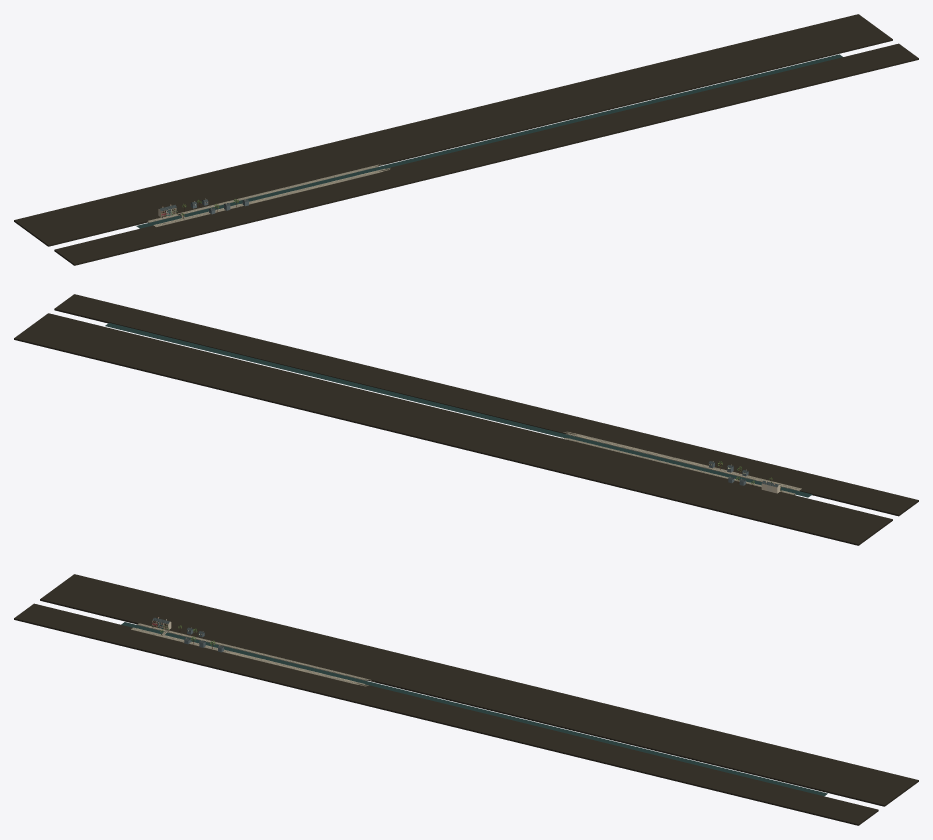
File: canal-v4.glb
3 renders of one model, top to bottom at view 1: azimuth 30°, elevation 25°; view 2: azimuth 150°, elevation 25°; view 3: azimuth 330°, elevation 25°, orthographic.
Parts seen in each view (by area): view 1: Material group / soil, Material group / Canal water, Material group / paving; view 2: Material group / soil, Material group / Canal water, Material group / paving; view 3: Material group / soil, Material group / Canal water, Material group / paving.
Boxes of the visible parts, x1,y1,x2,y2 form: Material group / soil: (14,14,918,265); Material group / Canal water: (136,54,842,228); Material group / paving: (148,164,390,226); Material group / soil: (14,294,918,545); Material group / Canal water: (105,323,812,497); Material group / paving: (559,431,801,494); Material group / soil: (14,574,918,825); Material group / Canal water: (121,622,827,796); Material group / paving: (131,623,374,686).
Size of the model in its own units: 960 by 11.58 by 119.
